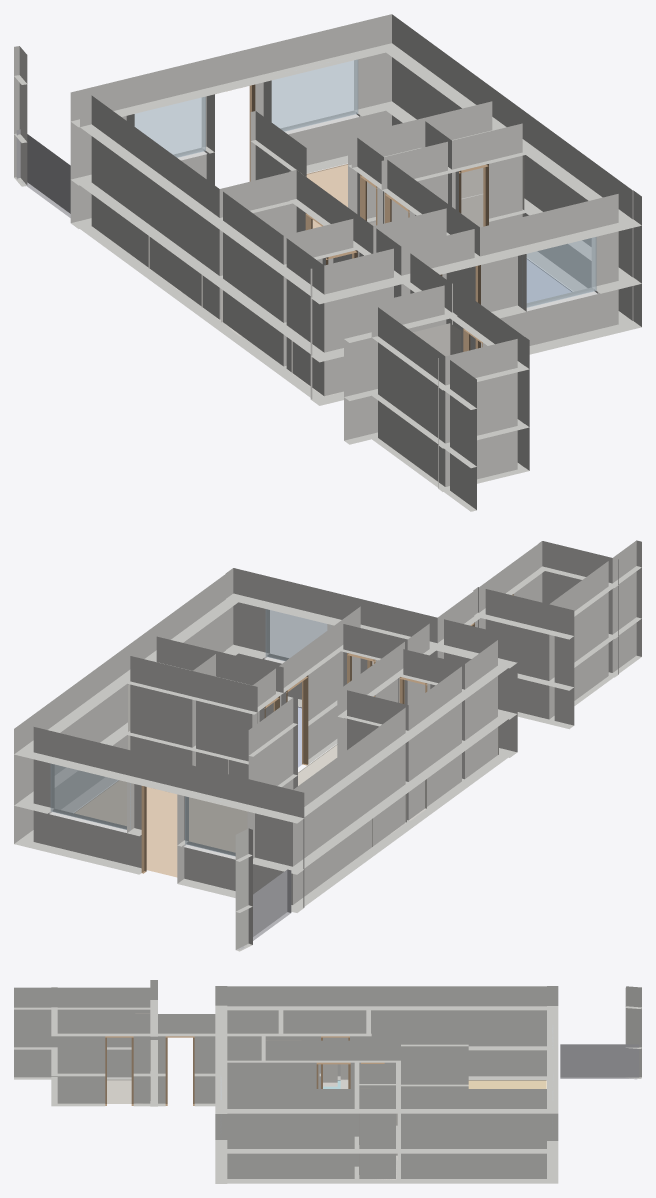
3 views of the same model, one above another, from view 1: azimuth 30°, elevation 25°; view 2: azimuth 150°, elevation 25°; view 3: azimuth 270°, elevation 25° (orthographic). The views are drawn at different scales.
Parts seen in each view (by area): view 1: walls, window_3, window_0, window_1, railings, furniture_0_closet, floor_1_Living_Room, floor_6_Bed_Room, furniture_2_closet; view 2: walls, floor_1_Living_Room, window_3, window_1, window_0, railings, door_6; view 3: walls, railings, floor_0_Kitchen, floor_9_Storage, door_11, door_5, furniture_6_appliance.
Part boxes in pixels (bbox=[...]): walls: bbox=[14, 14, 641, 511]; window_3: bbox=[271, 59, 358, 131]; window_0: bbox=[522, 237, 596, 308]; window_1: bbox=[134, 96, 205, 157]; railings: bbox=[16, 129, 70, 217]; furniture_0_closet: bbox=[461, 156, 524, 227]; floor_1_Living_Room: bbox=[306, 164, 347, 228]; floor_6_Bed_Room: bbox=[527, 259, 571, 302]; furniture_2_closet: bbox=[413, 323, 460, 356]; walls: bbox=[14, 540, 641, 951]; floor_1_Living_Room: bbox=[74, 780, 247, 877]; window_3: bbox=[50, 763, 130, 830]; window_1: bbox=[185, 796, 247, 856]; window_0: bbox=[265, 609, 327, 661]; railings: bbox=[237, 869, 291, 949]; door_6: bbox=[286, 675, 308, 765]; walls: bbox=[14, 980, 641, 1183]; railings: bbox=[560, 1044, 639, 1079]; floor_0_Kitchen: bbox=[468, 1080, 546, 1088]; floor_9_Storage: bbox=[107, 1079, 131, 1103]; door_11: bbox=[165, 1036, 194, 1105]; door_5: bbox=[105, 1036, 133, 1105]; furniture_6_appliance: bbox=[323, 1064, 337, 1086].
Size of the model in its own units: 7.34 by 2.72 by 17.1.
